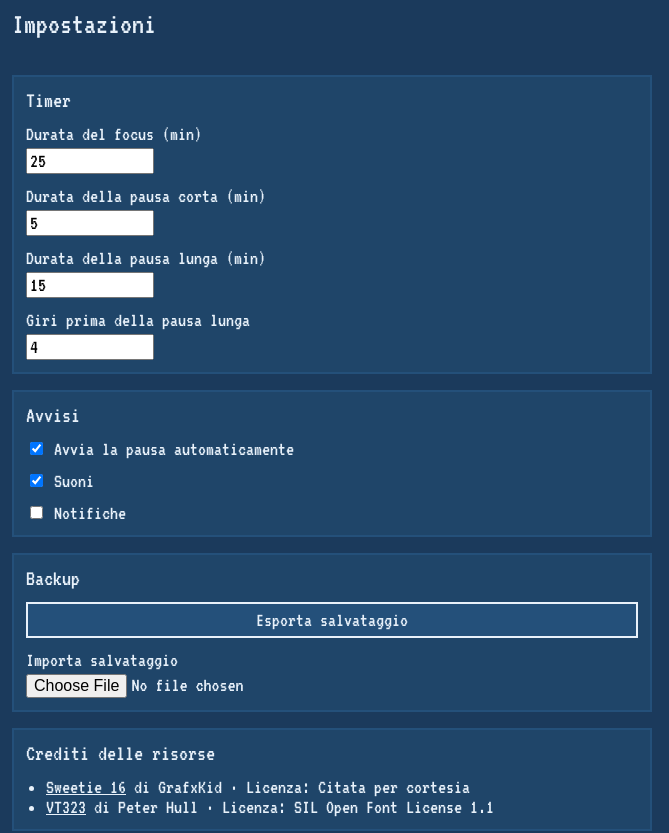
Test: SettingsScreen › empty draft is discarded on blur and the stored value is restored
Clear the number field labelled "Durata del focus (min)" at (90,161), box top-left (26, 148), bottom-right (154, 174)
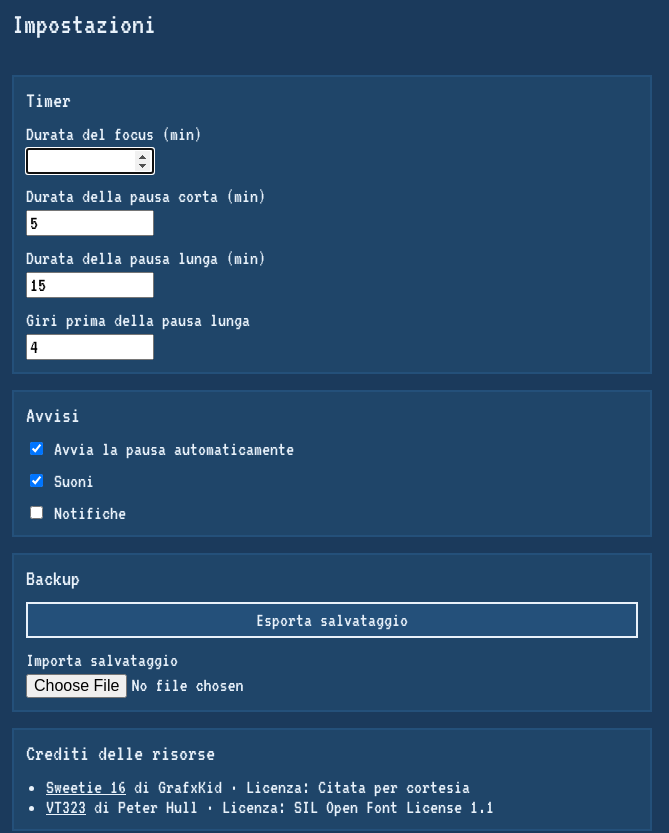
Press Tab
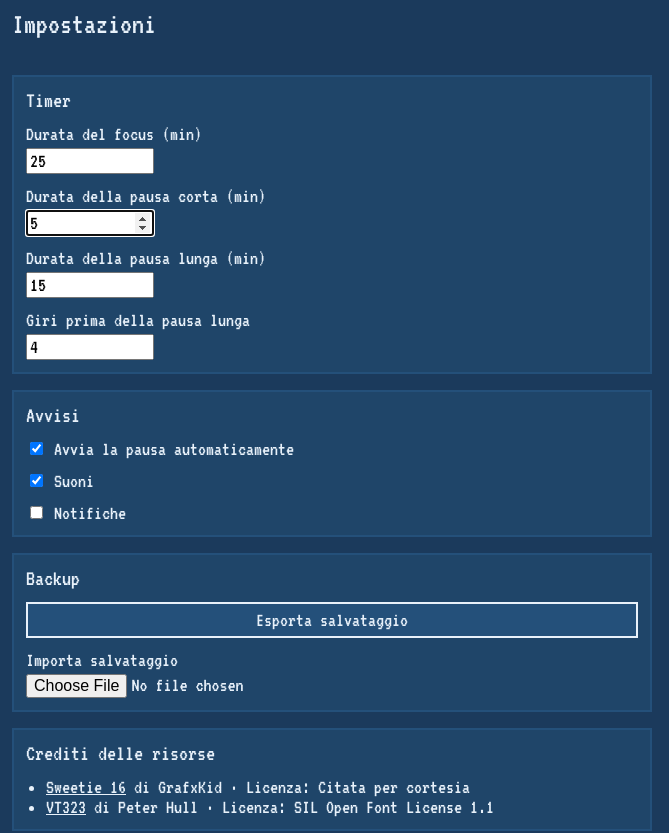
Now the number field labelled "Durata del focus (min)" holds "25", box top-left (26, 148), bottom-right (154, 174)
